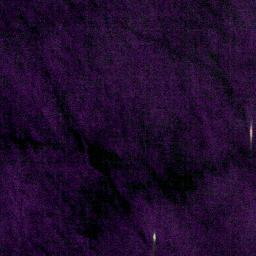Ship: (248, 122, 255, 143), (150, 230, 158, 242)
